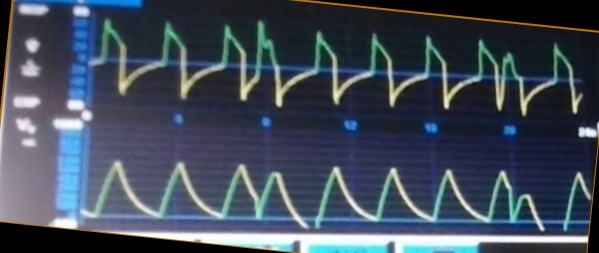Double_Triggering Flow: (95, 20, 577, 117)
Double_Triggering Volume: (94, 153, 580, 229)
